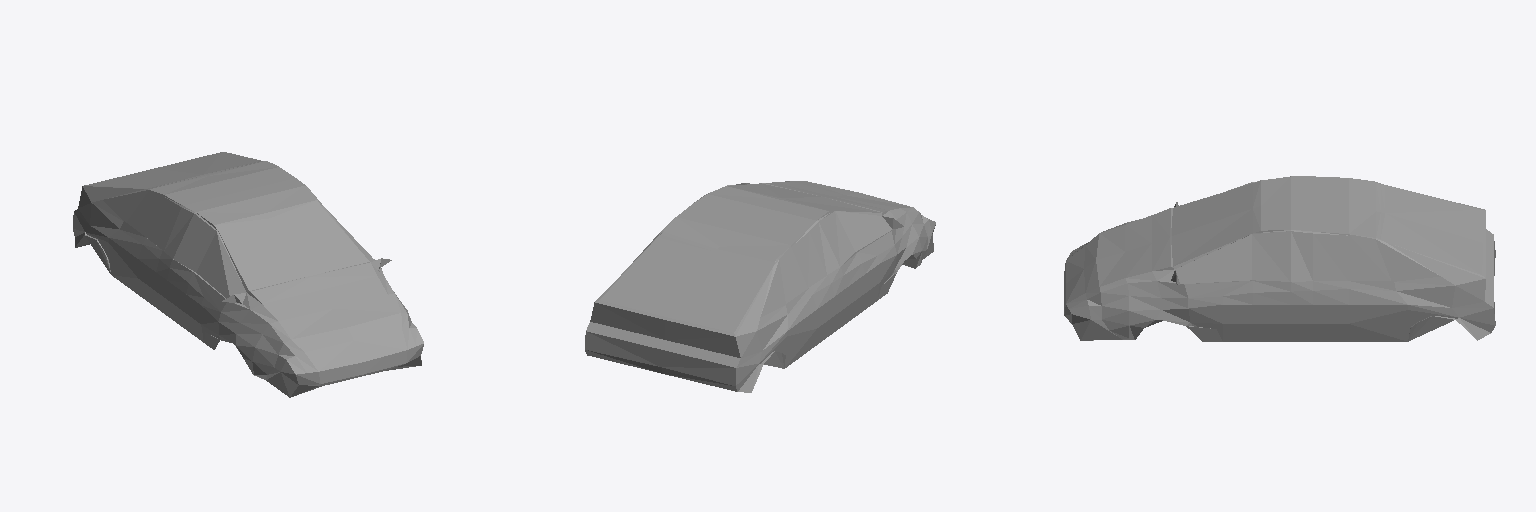
The model's file is car_shadow.obj.
3 renders of one model, left to right at view 1: azimuth 30°, elevation 25°; view 2: azimuth 150°, elevation 25°; view 3: azimuth 270°, elevation 25°, orthographic.
Parts seen in each view (by area): view 1: car_shadow; view 2: car_shadow; view 3: car_shadow.
Boxes of the visible parts, x1=… form: car_shadow: x1=73, y1=152, x2=423, y2=397; car_shadow: x1=585, y1=181, x2=935, y2=392; car_shadow: x1=1064, y1=176, x2=1495, y2=341.
Bounding box in the file's own units: 4.69 × 2.76 × 10.21.